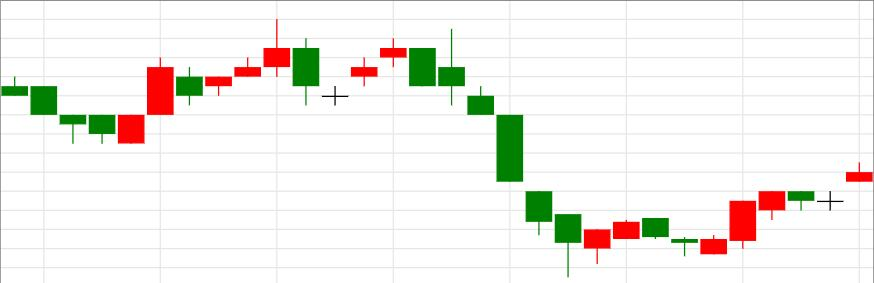hammer_rise: (381, 27, 581, 278)
